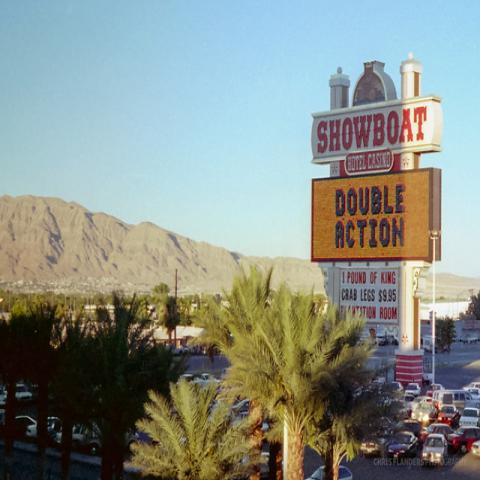car: (0, 332, 478, 466), (307, 380, 479, 479), (53, 424, 102, 456), (422, 434, 448, 465), (4, 384, 34, 408), (447, 425, 479, 445), (44, 416, 61, 449), (231, 398, 250, 424), (458, 407, 479, 426), (426, 383, 446, 396), (463, 381, 479, 394), (392, 382, 404, 394), (172, 346, 190, 354), (471, 440, 479, 457)
truck: (438, 390, 479, 413)
